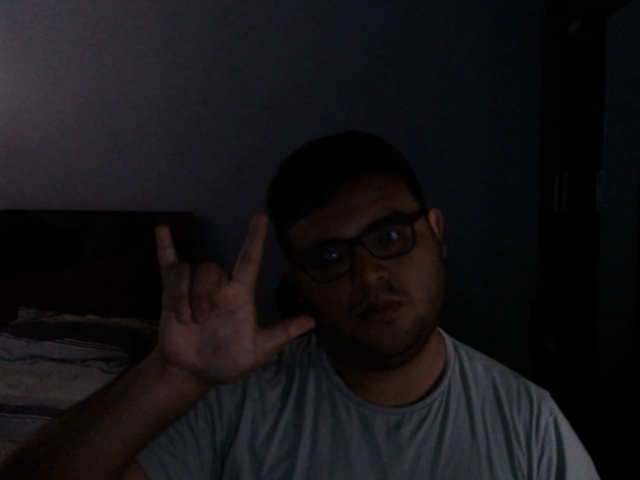I love you: (139, 209, 319, 395)
